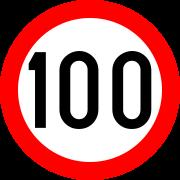Speed Limit -100-: (18, 34, 156, 150)
